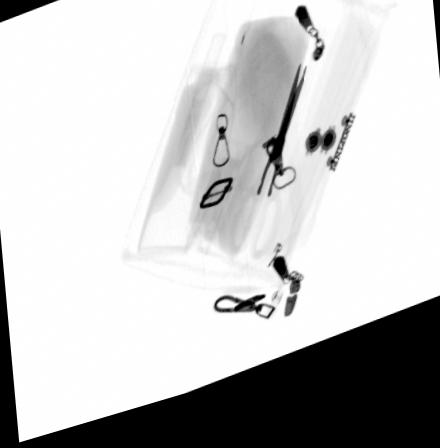Scissors: (226, 78, 307, 276)
